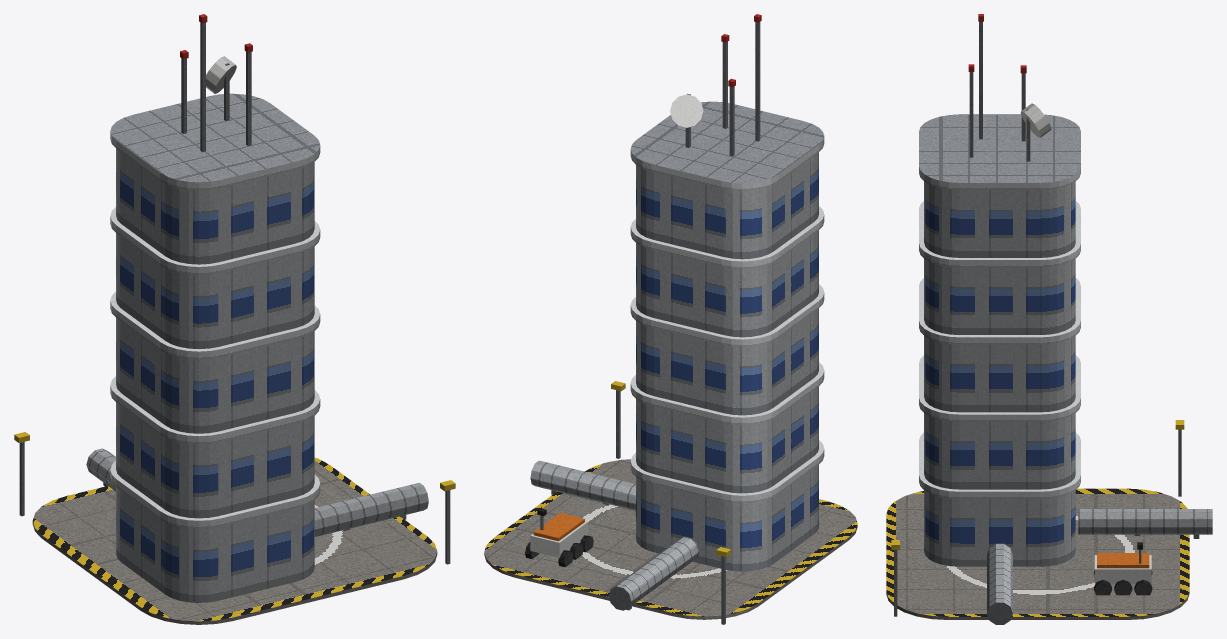
Rendered from mars_3_inhab_vez_a.glb.
3 views of the same model, side by side, from view 1: azimuth 30°, elevation 25°; view 2: azimuth 150°, elevation 25°; view 3: azimuth 270°, elevation 25° (orthographic). The views are drawn at different scales.
Parts seen in each view (by area): view 1: inhab_vez_a; view 2: inhab_vez_a; view 3: inhab_vez_a.
Part boxes in pixels (box(x1,y1,x2,y2)): inhab_vez_a: box(14, 14, 455, 624); inhab_vez_a: box(484, 14, 857, 624); inhab_vez_a: box(886, 14, 1212, 624).
Size of the model in its own units: 13.78 by 23.88 by 13.78.
1 material, 1 textured.
